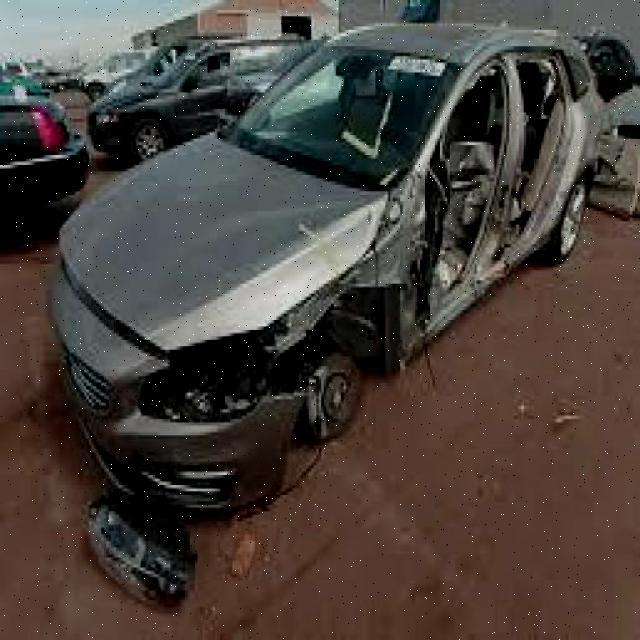car damage: (146, 27, 616, 458)
